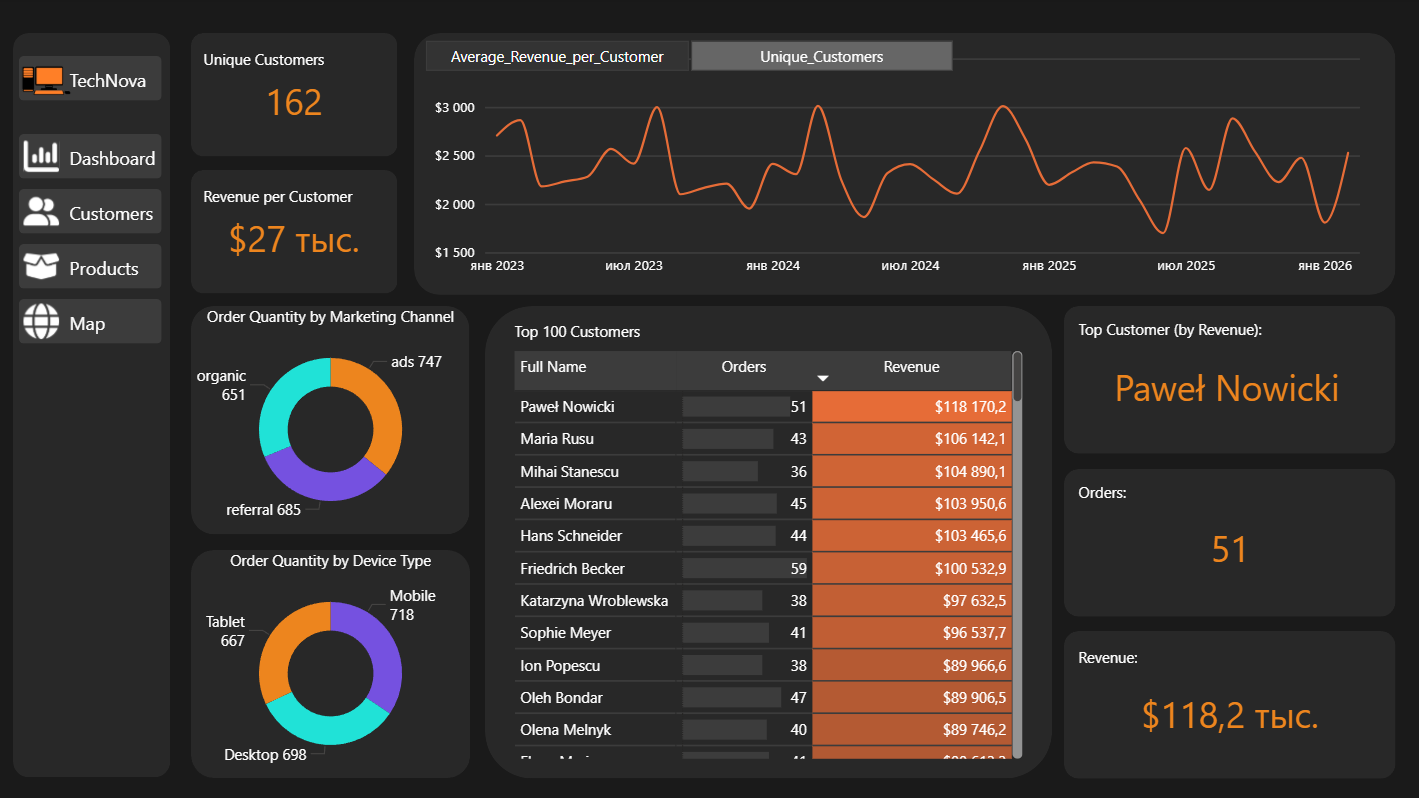

The dashboard page shown, as its layout file describes it:
{"tool":"powerbi","page":{"name":"Customers","canvas":[1280,720],"ordinal":1},"visuals":[{"type":"shape","box":[438.8,276.5,509.1,424.2],"z":0,"group":"g3"},{"type":"shape","box":[959.1,276.7,297.6,132.5],"z":0},{"type":"shape","box":[21,52,128,40],"z":500,"group":"g9"},{"type":"shape","box":[21,122,128,40],"z":500,"group":"g5"},{"type":"shape","box":[21,171.3,128,40],"z":500,"group":"g6"},{"type":"shape","box":[21,220.7,128,40],"z":500,"group":"g7"},{"type":"shape","box":[21,270,128,40],"z":500,"group":"g8"},{"type":"shape","box":[15.3,31.8,141.2,668.2],"z":1000},{"type":"actionButton","box":[21,122,46,40],"z":1000,"group":"g5"},{"type":"actionButton","box":[21,171.3,46,40],"z":1000,"group":"g6"},{"type":"actionButton","box":[21,220.7,46,40],"z":1000,"group":"g7"},{"type":"actionButton","box":[21,270,46,40],"z":1000,"group":"g8"},{"type":"pivotTable","title":"Top 100 Customers","fields":{"Rows":["dim_customers.Full Name"],"Values":["measure_table.Order_Quantity","measure_table.Total_Revenue"]},"box":[460.5,289.5,465.7,398.2],"z":1000,"group":"g3"},{"type":"shape","box":[175.3,31.8,185.3,110.9],"z":1001,"group":"g1"},{"type":"shape","box":[175.3,154.1,185.3,110.9],"z":1001,"group":"g2"},{"type":"card","title":"Unique Customers","fields":{"Values":["measure_table.Unique_Customers"]},"box":[182,45.8,171.9,82.9],"z":1501,"group":"g1"},{"type":"card","title":"Revenue per Customer","fields":{"Values":["measure_table.Average_Revenue_per_Customer"]},"box":[182,168.1,171.9,82.9],"z":1501,"group":"g2"},{"type":"group","id":"g1","title":"Группа 1","box":[175.3,31.8,185.3,110.9],"z":2000},{"type":"textbox","box":[61,57,95,35],"z":2000,"group":"g9"},{"type":"textbox","box":[61,127,95,35],"z":2000,"group":"g5"},{"type":"textbox","box":[61,176.3,95,35],"z":2000,"group":"g6"},{"type":"textbox","box":[61,225.7,95,35],"z":2000,"group":"g7"},{"type":"textbox","box":[61,275,95,35],"z":2000,"group":"g8"},{"type":"shape","box":[375.2,31.4,881.2,235.3],"z":2500,"group":"g4"},{"type":"group","id":"g2","title":"Группа 1","box":[175.3,154.1,185.9,110.6],"z":3000},{"type":"lineChart","title":"Monthly Revenue Performance","fields":{"Y":["measure_table.Average_Revenue_per_Customer"],"Category":["dim_calendar.Start of Month"]},"box":[388.2,40.1,855.1,218],"z":3500,"group":"g4"},{"type":"shape","box":[175.3,276.5,250,205],"z":4000},{"type":"donutChart","title":"Order Quantity by Marketing Channel","fields":{"Y":["measure_table.Order_Quantity"],"Category":["dim_customers.marketing_channel"]},"box":[175.3,276.5,250.6,204.7],"z":5000},{"type":"shape","box":[175.3,495.3,250.6,204.7],"z":6000},{"type":"donutChart","title":"Order Quantity by Device Type","fields":{"Y":["measure_table.Order_Quantity"],"Category":["dim_customers.device_type"]},"box":[175.3,495.3,250.6,204.7],"z":7000},{"type":"group","id":"g3","title":"Группа 4","box":[438.8,276.5,509.4,423.5],"z":8000},{"type":"group","id":"g4","title":"Группа 3","box":[375.2,31.4,867.7,235.8],"z":9000},{"type":"slicer","fields":{"Values":["Metrics.Metrics"]},"box":[360.4,31.4,523.2,36],"z":10000},{"type":"shape","box":[959.1,422.6,297.6,132.5],"z":11000},{"type":"shape","box":[959.1,568.5,297.6,132.5],"z":12000},{"type":"textbox","box":[966.7,283.3,242.2,32.2],"z":13000},{"type":"textbox","box":[966.7,430,127.8,31.1],"z":14000},{"type":"textbox","box":[966.7,578,127.8,31.1],"z":15000},{"type":"card","title":"Unique Customers","fields":{"Values":["Min(dim_customers.Full Name)"]},"box":[966.7,304.3,276.4,90.8],"z":16000},{"type":"card","title":"Unique Customers","fields":{"Values":["measure_table.Order_Quantity"]},"box":[969.7,448.9,276.4,90.8],"z":17000},{"type":"card","title":"Unique Customers","fields":{"Values":["measure_table.Total_Revenue"]},"box":[969.7,597.6,276.4,90.8],"z":18000},{"type":"group","id":"g5","title":"Группа 1","box":[21,122,135,40],"z":20000},{"type":"group","id":"g6","title":"Группа 1","box":[21,171.3,135,40],"z":21000},{"type":"group","id":"g7","title":"Группа 1","box":[21,220.7,135,40],"z":22000},{"type":"group","id":"g8","title":"Группа 1","box":[21,270,135,40],"z":23000},{"type":"group","id":"g9","title":"Группа 1","box":[21,52,135,40],"z":24000},{"type":"image","box":[19,51,53,47],"z":25000}]}

Visuals, with their boxes on the page's 1280x720 design canvas (x1, y1, x2, y2). These are canvas units, not pixel positions in the 1419x798 screenshot, which may show the page scaled, cropped or inside an application window:
shape: [439,276,948,701]
shape: [959,277,1257,409]
shape: [21,52,149,92]
shape: [21,122,149,162]
shape: [21,171,149,211]
shape: [21,221,149,261]
shape: [21,270,149,310]
shape: [15,32,156,700]
actionButton: [21,122,67,162]
actionButton: [21,171,67,211]
actionButton: [21,221,67,261]
actionButton: [21,270,67,310]
"Top 100 Customers" pivotTable: [460,290,926,688]
shape: [175,32,361,143]
shape: [175,154,361,265]
"Unique Customers" card: [182,46,354,129]
"Revenue per Customer" card: [182,168,354,251]
"Группа 1" group: [175,32,361,143]
textbox: [61,57,156,92]
textbox: [61,127,156,162]
textbox: [61,176,156,211]
textbox: [61,226,156,261]
textbox: [61,275,156,310]
shape: [375,31,1256,267]
"Группа 1" group: [175,154,361,265]
"Monthly Revenue Performance" lineChart: [388,40,1243,258]
shape: [175,276,425,482]
"Order Quantity by Marketing Channel" donutChart: [175,276,426,481]
shape: [175,495,426,700]
"Order Quantity by Device Type" donutChart: [175,495,426,700]
"Группа 4" group: [439,276,948,700]
"Группа 3" group: [375,31,1243,267]
slicer - Metrics.Metrics: [360,31,884,67]
shape: [959,423,1257,555]
shape: [959,568,1257,701]
textbox: [967,283,1209,316]
textbox: [967,430,1094,461]
textbox: [967,578,1094,609]
"Unique Customers" card: [967,304,1243,395]
"Unique Customers" card: [970,449,1246,540]
"Unique Customers" card: [970,598,1246,688]
"Группа 1" group: [21,122,156,162]
"Группа 1" group: [21,171,156,211]
"Группа 1" group: [21,221,156,261]
"Группа 1" group: [21,270,156,310]
"Группа 1" group: [21,52,156,92]
image: [19,51,72,98]
